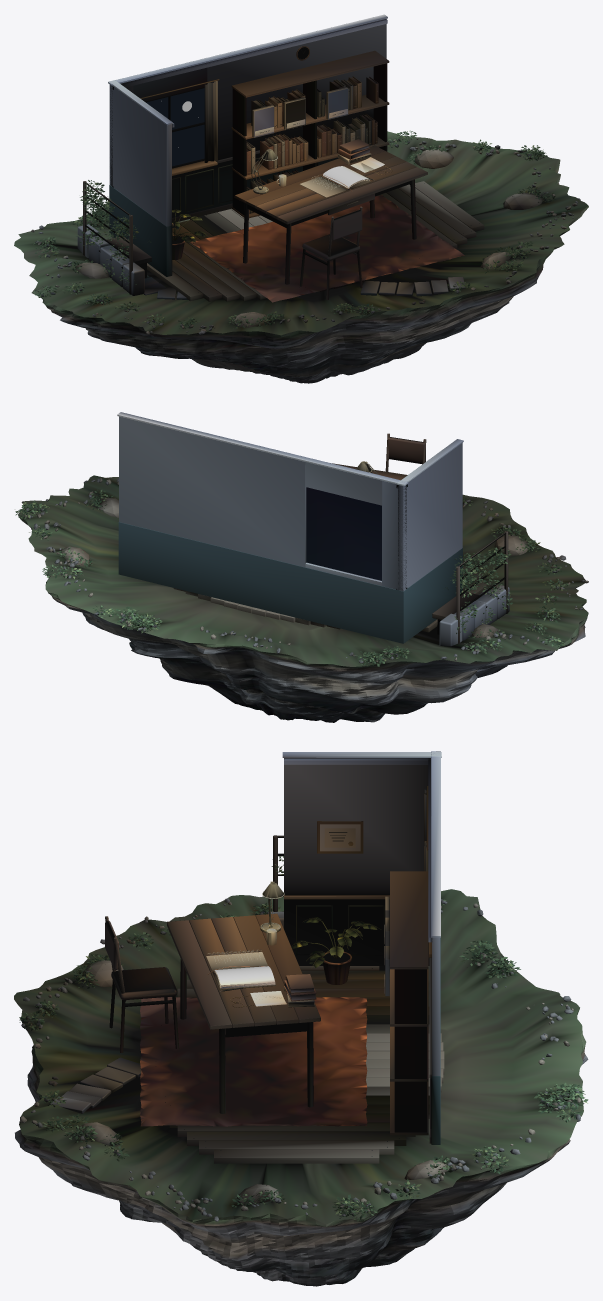
File: flight-writing-57136777.glb
3 renders of one model, top to bottom at view 1: azimuth 30°, elevation 25°; view 2: azimuth 150°, elevation 25°; view 3: azimuth 270°, elevation 25°, orthographic. The views are drawn at different scales.
Parts seen in each view (by area): view 1: Writing island · flight.001; view 2: Writing island · flight.001; view 3: Writing island · flight.001.
Boxes of the visible parts, x1,y1,x2,y2 form: Writing island · flight.001: (14,14,588,383); Writing island · flight.001: (15,412,588,722); Writing island · flight.001: (14,751,588,1286).
Size of the model in its own units: 11.74 by 6.45 by 8.16.
